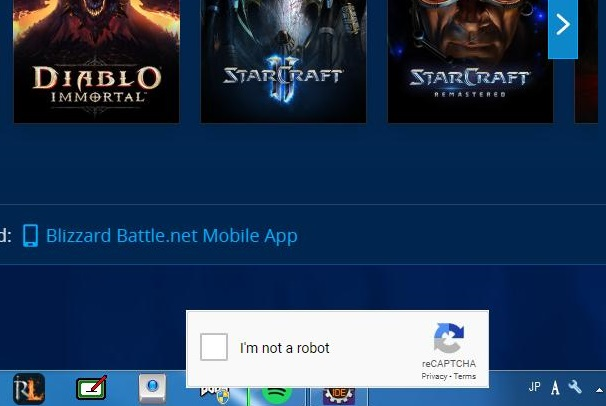captcha: (200, 333, 332, 361)
